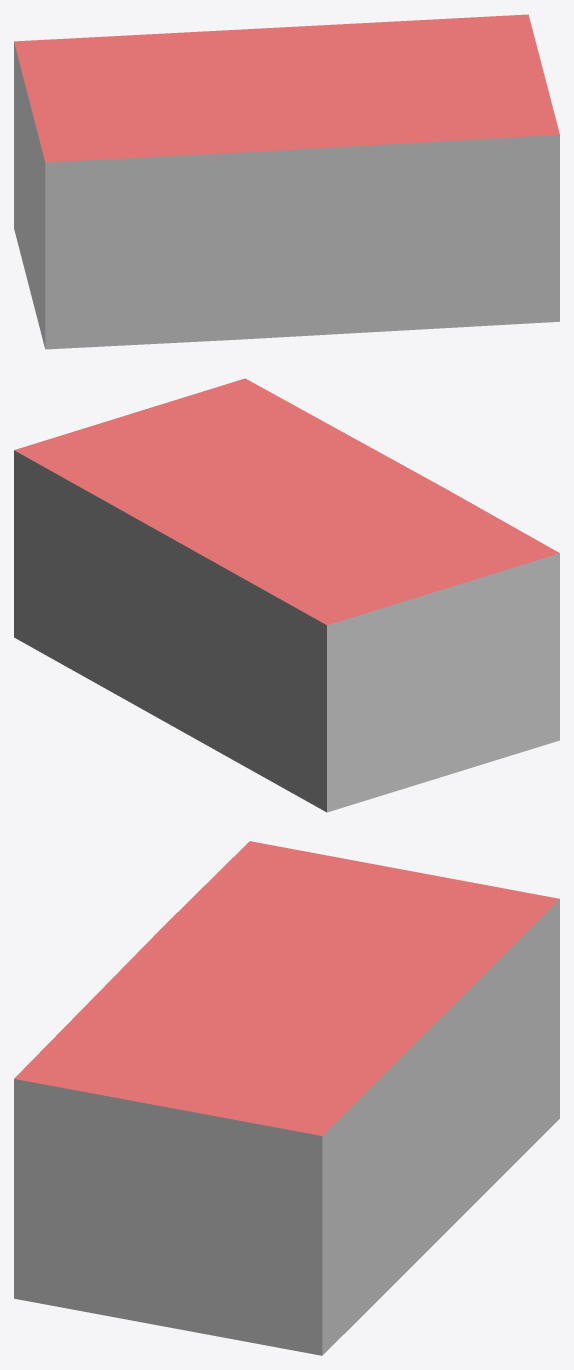
File: DEBY_LOD2_4908143.gltf
The picture shows the model from 3 angles, top to bottom: view 1: azimuth 30°, elevation 25°; view 2: azimuth 150°, elevation 25°; view 3: azimuth 270°, elevation 25°; orthographic projection. The views are drawn at different scales.
Parts seen in each view (by area): view 1: Z_UP; view 2: Z_UP; view 3: Z_UP.
Part boxes in pixels (x1,y1,x2,y2): Z_UP: (14, 14, 559, 349); Z_UP: (14, 378, 559, 812); Z_UP: (14, 841, 559, 1355).
Size of the model in its own units: 11.34 by 3.94 by 8.87.
